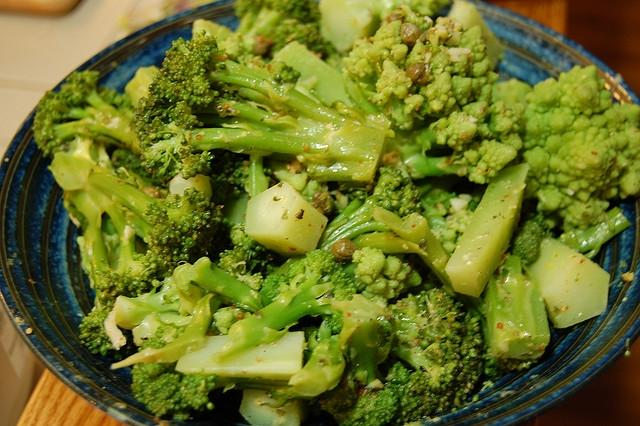broccoli: (130, 30, 388, 199), (50, 152, 221, 355), (340, 4, 522, 183), (503, 64, 640, 232), (210, 249, 358, 364), (383, 311, 484, 426), (31, 70, 142, 158), (317, 164, 426, 252), (465, 252, 550, 360), (110, 292, 223, 370), (388, 287, 466, 393), (527, 236, 611, 328), (373, 205, 455, 296), (244, 180, 328, 260), (175, 332, 309, 380), (272, 40, 360, 110), (260, 338, 345, 408), (130, 362, 220, 422), (344, 246, 423, 307), (211, 152, 277, 224), (556, 206, 632, 260), (241, 3, 322, 53), (318, 0, 392, 52), (112, 278, 180, 330), (333, 379, 399, 425), (111, 148, 170, 199), (239, 388, 314, 426), (190, 18, 246, 62), (426, 209, 474, 257), (216, 246, 264, 292), (320, 368, 358, 424), (271, 18, 324, 58), (352, 231, 428, 256), (125, 66, 160, 108), (512, 220, 544, 264), (208, 306, 254, 335), (270, 158, 308, 191)
